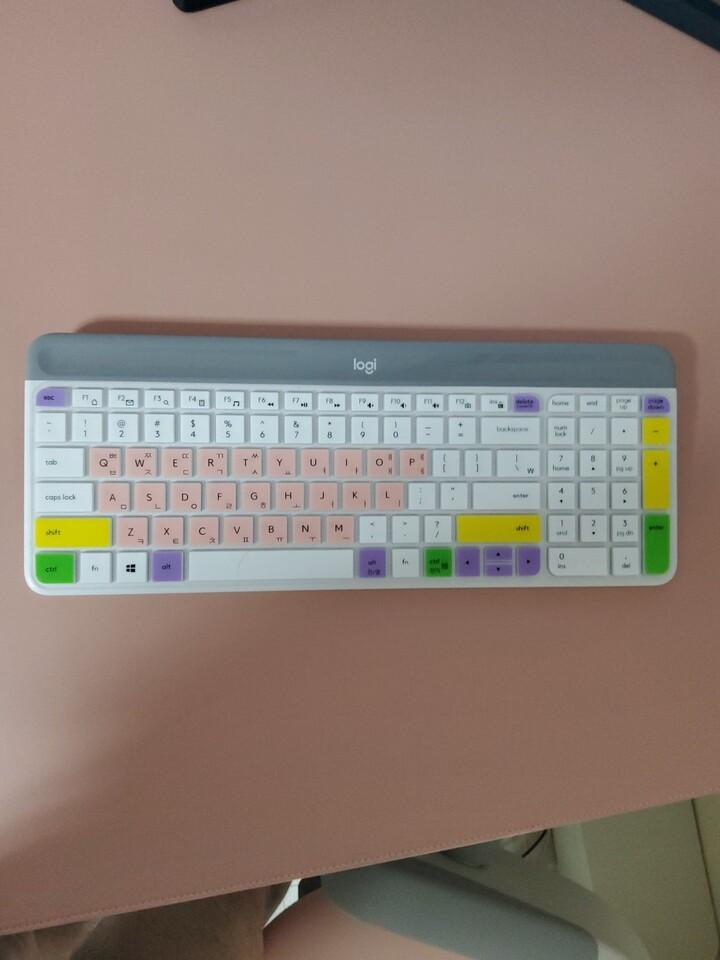keyboard: (22, 333, 679, 595)
